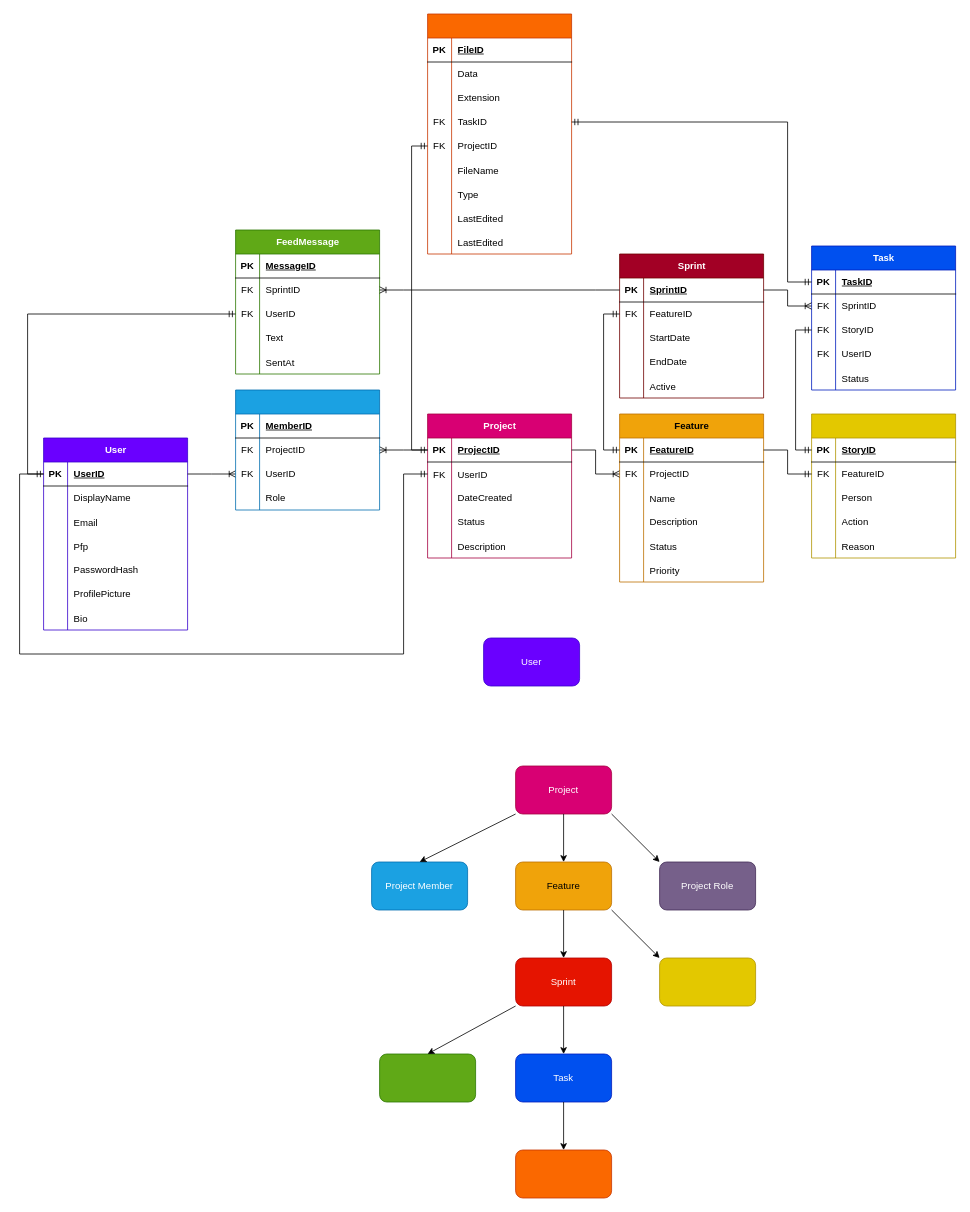
Some shapes in this 970 by 1212 pixel diagram are drawn without their labels. The box of each missing label's shape, as (x1, y1, x2, y2) in pixels:
Feed Message: (379, 1053, 476, 1102)
File Store: (515, 1149, 612, 1198)
FileStore: (427, 13, 572, 254)
ProjectMember: (235, 389, 380, 510)
User Story: (659, 957, 756, 1006)
UserStory: (811, 413, 956, 558)
